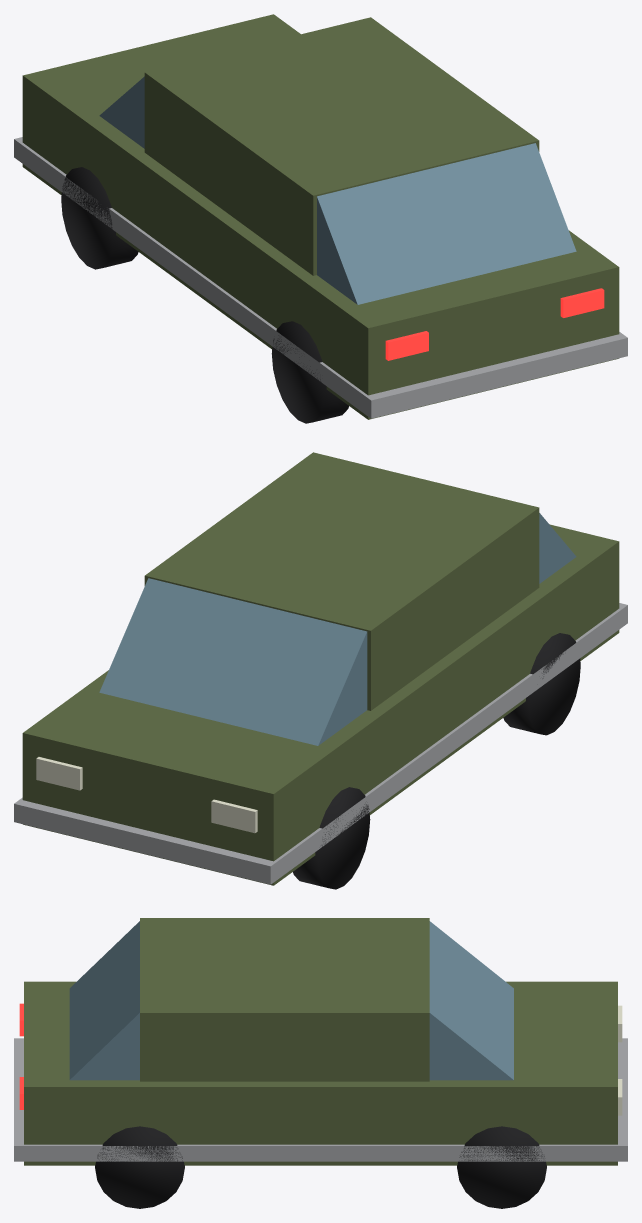
File: Car3.fbx
The picture shows the model from 3 angles, top to bottom: view 1: azimuth 30°, elevation 25°; view 2: azimuth 150°, elevation 25°; view 3: azimuth 270°, elevation 25°; orthographic projection. The views are drawn at different scales.
Parts seen in each view (by area): view 1: Body, Cabin, RearScreen, Bumpers, Wheel-10, Wheel-11, Windscreen, Taillamp1, Taillamp-1; view 2: Body, Cabin, Windscreen, Bumpers, Wheel-10, Wheel-11, RearScreen, Headlamp-1, Headlamp1; view 3: Body, Cabin, Bumpers, Windscreen, RearScreen, Wheel10, Wheel11.
Boxes of the visible parts, box(x1,y1,x2,y2) form: Body: box(22, 14, 619, 419); Cabin: box(144, 17, 539, 275); RearScreen: box(317, 143, 576, 304); Bumpers: box(14, 137, 627, 418); Wheel-10: box(61, 167, 138, 269); Wheel-11: box(271, 321, 348, 423); Windscreen: box(99, 76, 144, 148); Taillamp1: box(560, 288, 604, 317); Taillamp-1: box(385, 331, 428, 360); Body: box(22, 524, 619, 885); Cabin: box(144, 452, 539, 710); Windscreen: box(99, 578, 367, 745); Bumpers: box(14, 603, 627, 884); Wheel-10: box(293, 787, 370, 889); Wheel-11: box(503, 633, 580, 735); RearScreen: box(539, 513, 576, 583); Headlamp-1: box(211, 799, 257, 833); Headlamp1: box(36, 757, 82, 790); Body: box(24, 981, 617, 1165); Cabin: box(140, 918, 429, 1081); Bumpers: box(14, 1038, 627, 1161); Windscreen: box(429, 921, 513, 1080); RearScreen: box(69, 921, 139, 1080); Wheel10: box(457, 1126, 546, 1208); Wheel11: box(95, 1126, 184, 1208).
Size of the model in its own units: 176 by 424 by 144.
